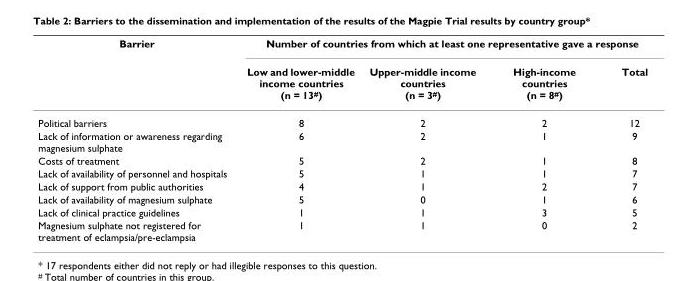table: (37, 36, 646, 242)
table column: (37, 36, 236, 242), (361, 36, 493, 242), (236, 36, 361, 242), (493, 36, 597, 242), (597, 36, 646, 242)
table column header: (37, 36, 646, 108)
table row: (37, 56, 646, 108), (37, 129, 646, 153), (37, 218, 646, 242), (37, 108, 646, 129), (37, 36, 646, 56), (37, 153, 646, 166), (37, 166, 646, 179), (37, 179, 646, 192), (37, 192, 646, 205), (37, 205, 646, 218)
table spanning cell: (37, 36, 236, 108), (236, 36, 646, 56)
